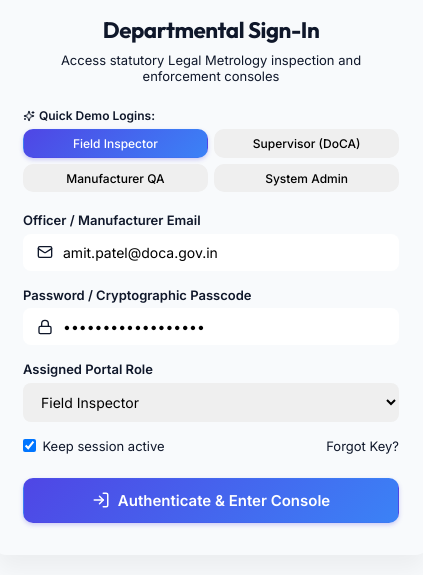
Test: Frontend Modules F01 - F05 Component Suite › F02: Authentication, Session & RBAC UI › renders LoginForm and handles quick role selection
The image size is (423, 575).
expect the heading "Departmental Sign-In" is shown: met, box x1=103 y1=16 x2=319 y2=44
What coordinates should you click on to do the following:
click the button "System Admin"
I would click on:
 (307, 178)
Its box is x1=214 y1=164 x2=399 y2=192.
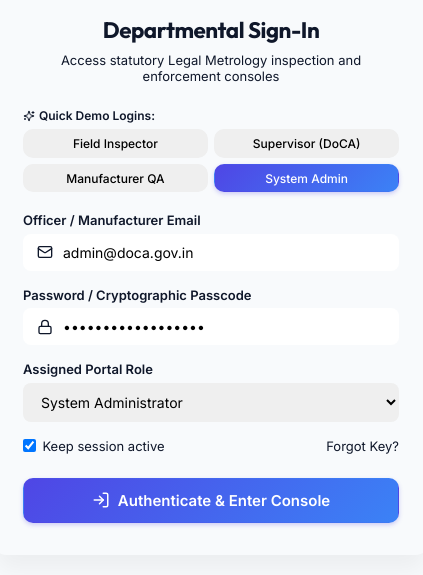
expect the field showing "admin@doca.gov.in" is shown: met, box x1=23 y1=234 x2=399 y2=271
